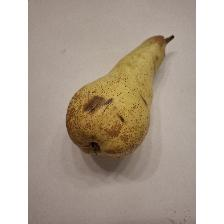Birne: (64, 34, 182, 160)
